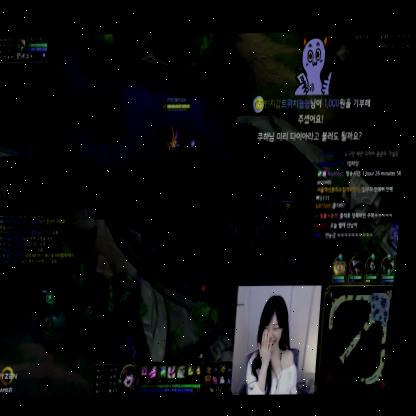donation: (251, 34, 375, 143)
streamer: (249, 294, 308, 394)
